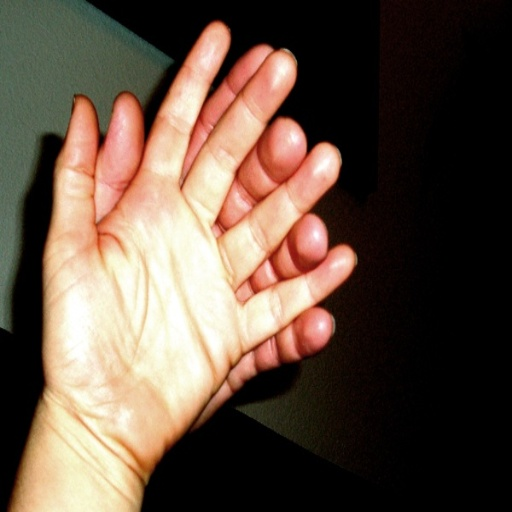hand: (92, 42, 335, 437)
